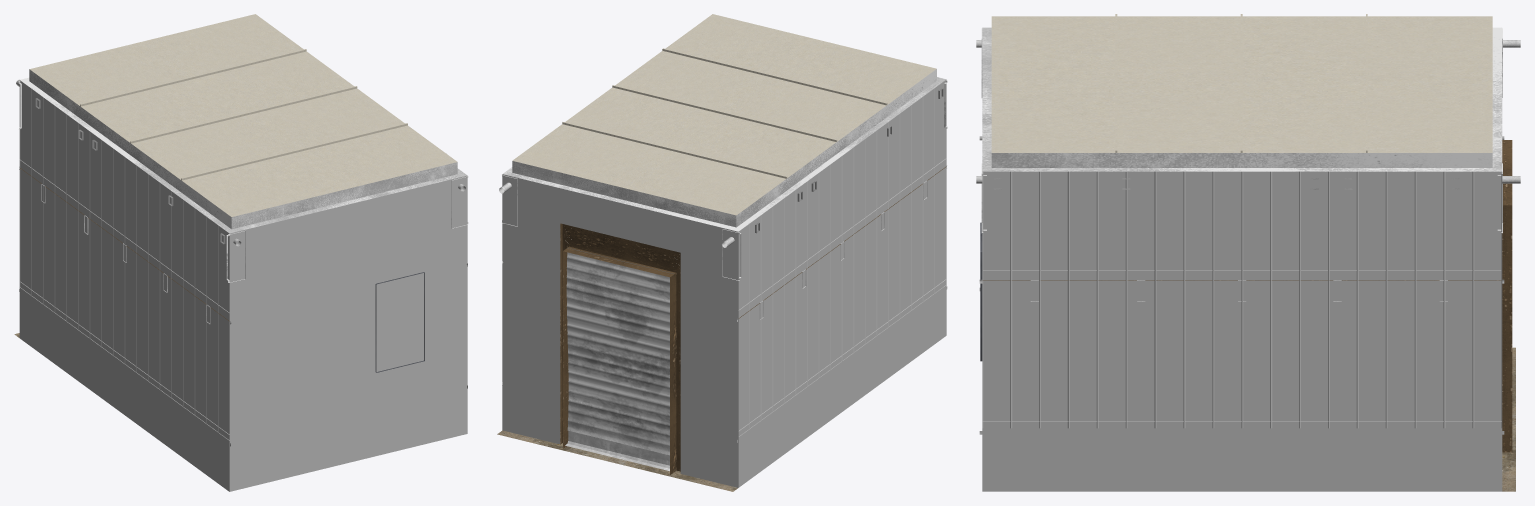
The model's file is TruckBack.fbx.
3 renders of one model, left to right at view 1: azimuth 30°, elevation 25°; view 2: azimuth 150°, elevation 25°; view 3: azimuth 270°, elevation 25°, orthographic. The views are drawn at different scales.
Visible parts, largest first — view 1: Plane.009; view 2: Plane.009; view 3: Plane.009.
Boxes of the visible parts, x1=… form: Plane.009: x1=14, y1=14, x2=468, y2=491; Plane.009: x1=497, y1=14, x2=947, y2=491; Plane.009: x1=976, y1=14, x2=1520, y2=491.
Bounding box in the file's own units: 178 × 194 × 282.
